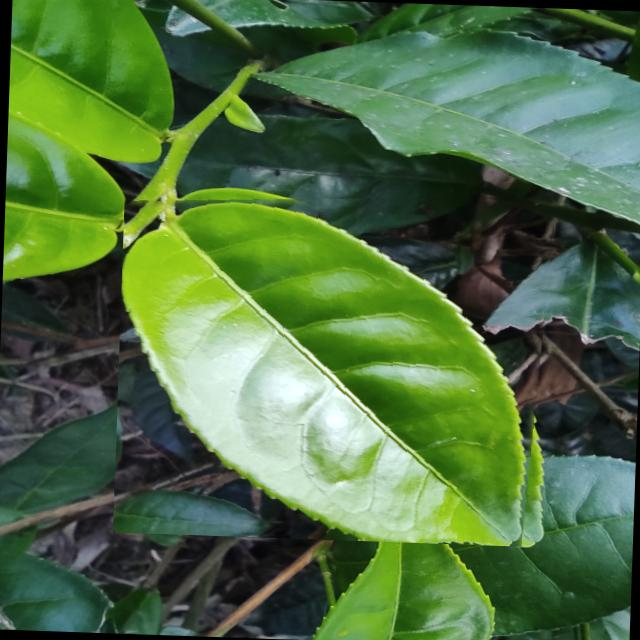Category B(2-4 days): (112, 181, 556, 547)
